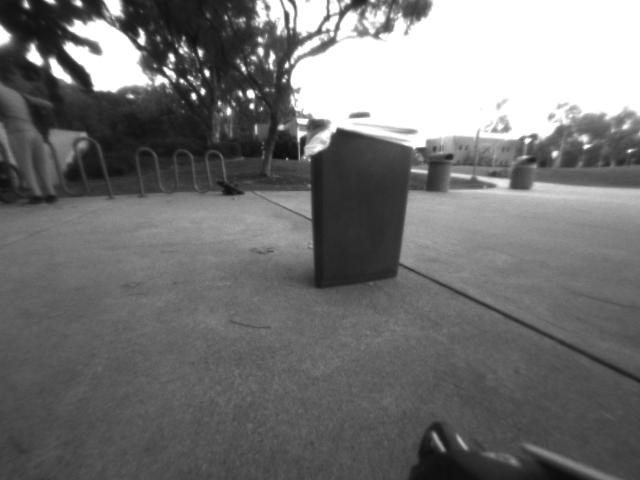trashcan_open: (298, 105, 424, 295)
